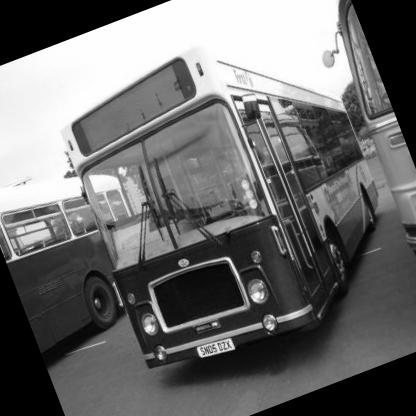bus: (41, 17, 416, 405)
